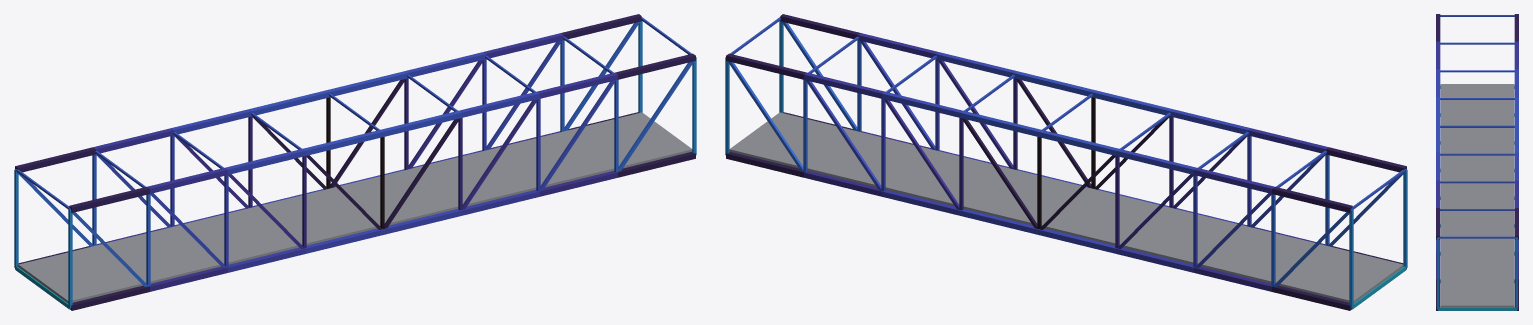
File: 20_3_8_HEA240.glb
3 views of the same model, side by side, from view 1: azimuth 30°, elevation 25°; view 2: azimuth 150°, elevation 25°; view 3: azimuth 270°, elevation 25° (orthographic). The views are drawn at different scales.
Bounding box in the file's own units: 20.09 × 3.16 × 3.16.
